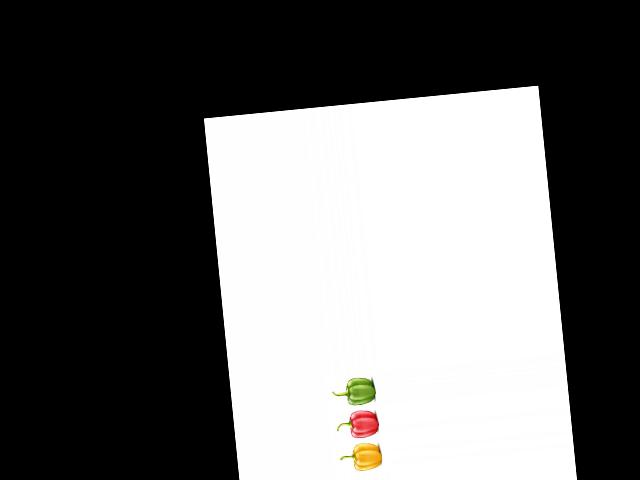bell_pepper: (331, 372, 378, 407)
